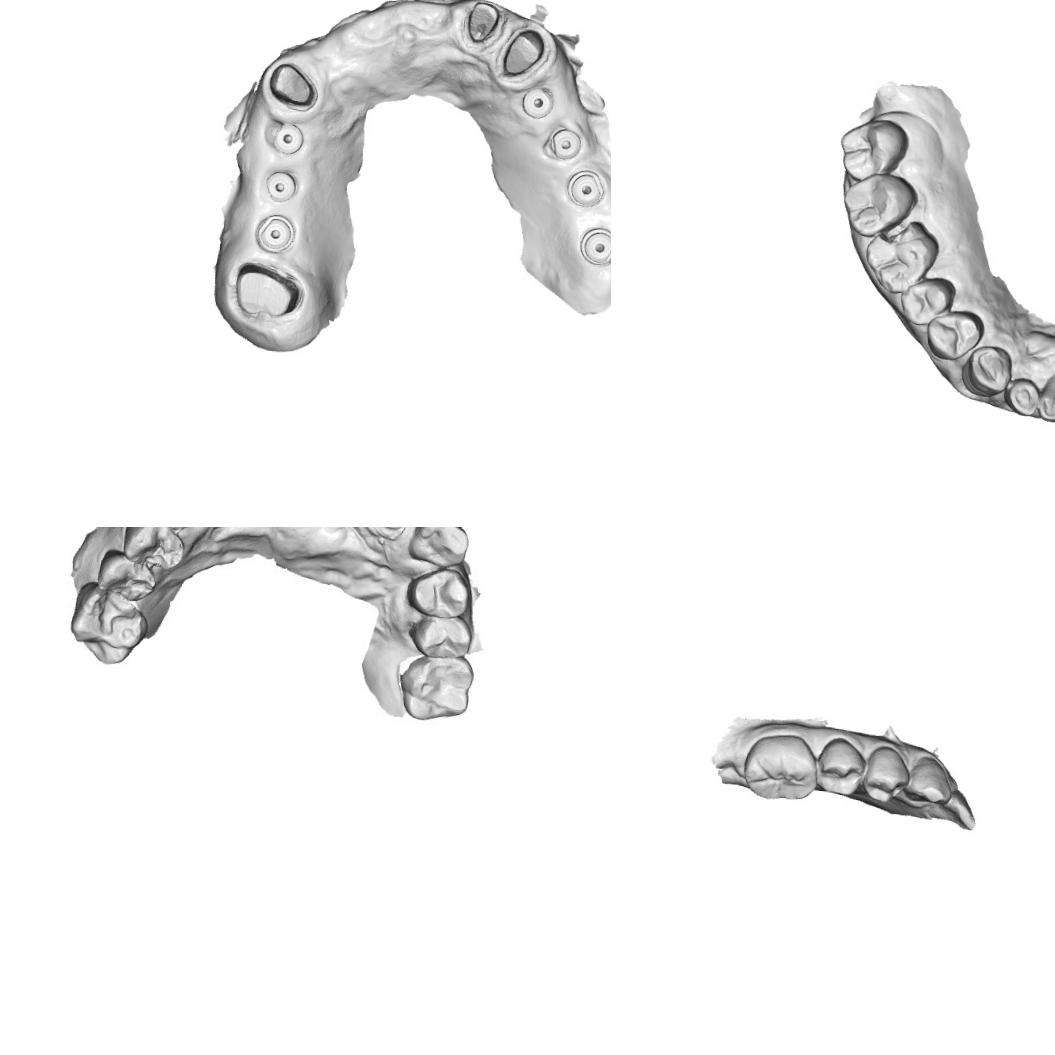canine: (906, 744, 960, 811), (961, 342, 1016, 398), (408, 527, 473, 572)
crown: (225, 256, 304, 322), (494, 23, 554, 92), (261, 57, 320, 112), (458, 0, 504, 56)
implant: (520, 79, 562, 128), (250, 212, 296, 254), (564, 166, 610, 208), (542, 122, 584, 166), (577, 221, 611, 268), (263, 164, 296, 206), (266, 120, 305, 154)
incisor: (918, 787, 980, 834), (1004, 370, 1048, 418), (1034, 365, 1055, 424)
molar: (65, 580, 152, 666), (858, 215, 940, 297), (739, 728, 820, 804), (838, 168, 919, 241), (396, 654, 473, 722), (836, 114, 910, 184)
premolar: (920, 306, 985, 364), (407, 564, 472, 621), (120, 527, 189, 580), (92, 547, 155, 605), (812, 730, 866, 797), (406, 611, 476, 662), (860, 739, 913, 806), (894, 274, 958, 329)
